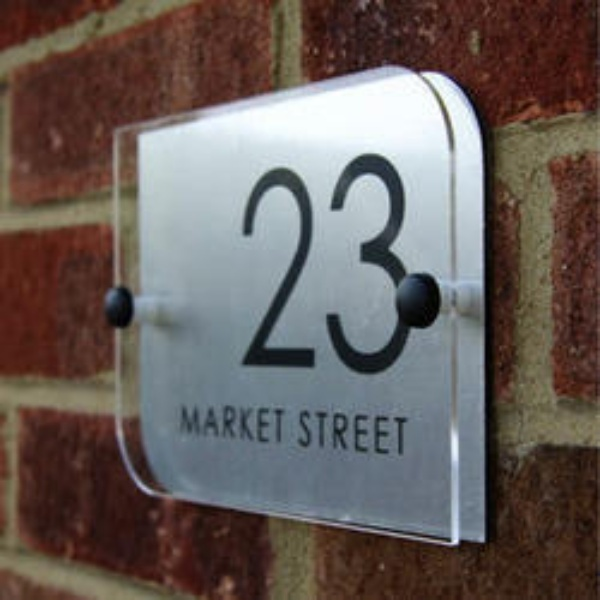text: (241, 147, 256, 375), (257, 147, 272, 375), (273, 147, 288, 375), (289, 147, 304, 375), (305, 147, 320, 375), (321, 147, 336, 375), (337, 147, 352, 375), (353, 147, 368, 375), (369, 147, 384, 375), (385, 147, 400, 375), (401, 147, 416, 375), (305, 409, 320, 457), (321, 409, 336, 457), (337, 409, 352, 457), (353, 409, 368, 457), (369, 409, 384, 457), (385, 409, 400, 457), (273, 404, 289, 445), (193, 404, 208, 445), (209, 404, 224, 445), (225, 404, 240, 445), (241, 404, 256, 445), (257, 404, 272, 445), (178, 404, 192, 445), (401, 409, 411, 457), (296, 409, 304, 457)
